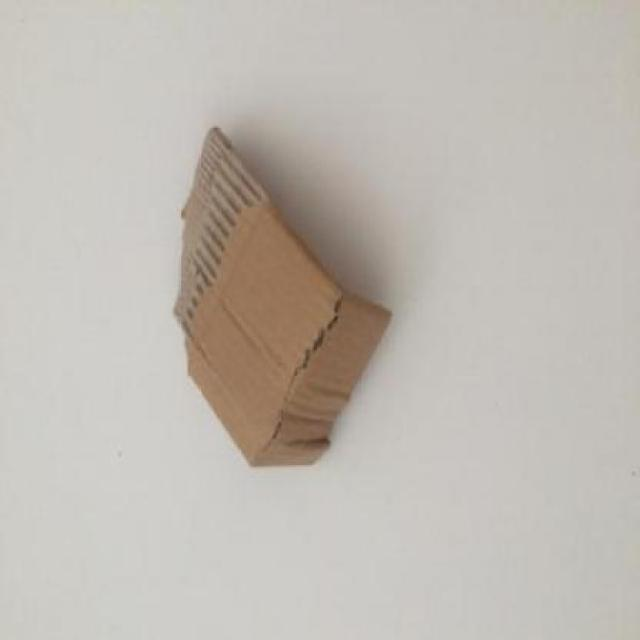box: (161, 120, 388, 507)
